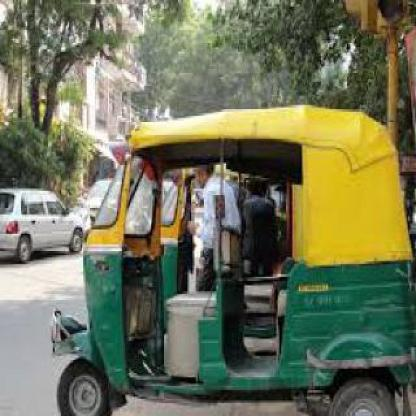auto-rikshaw: (67, 121, 416, 416)
